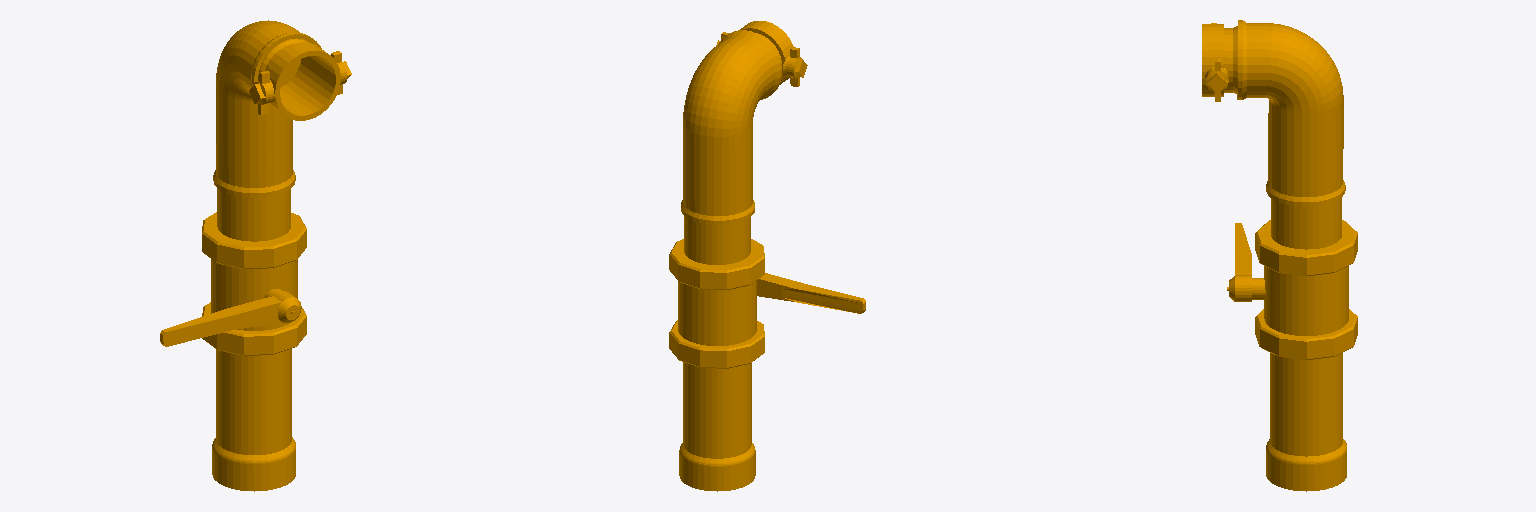
The robot description file, URDF, robot "mesh_object":
<?xml version="1.0" ?>
<robot name="mesh_object">
  <link name="base">
    <visual>
      <geometry>
        <mesh filename="fire_hose_3.obj" scale="1 1 1"/>
      </geometry>
    </visual>
    <collision>
      <geometry>
        <mesh filename="fire_hose_3.obj" scale="1 1 1"/>
      </geometry>
    </collision>
    <inertial>
      <origin xyz="-0.018125 0.005427 0.102260" rpy="0 0 0"/>
      <mass value="0.5"/>
      <inertia ixx="0.01" iyy="0.01" izz="0.01" ixy="0" ixz="0" iyz="0"/>
    </inertial>
  </link>
</robot>

--- What the picture shows (computed from the rendered views, not written in the file) ---
The picture shows the robot from 3 angles, left to right: view 1: azimuth 30°, elevation 25°; view 2: azimuth 150°, elevation 25°; view 3: azimuth 270°, elevation 25°; orthographic projection.
Model mesh_object with 1 links and 0 joints (none), rooted at base, posed every joint at zero.
Visible links, largest first — view 1: base; view 2: base; view 3: base.
Link boxes in pixels (x1=…): base: x1=160, y1=20, x2=351, y2=491; base: x1=669, y1=21, x2=865, y2=491; base: x1=1202, y1=20, x2=1357, y2=491.
Size in the robot's own frame: 0.0801 by 0.0643 by 0.2045 metres.
1 mesh visuals loaded from 1 distinct referenced files (1 OBJ).
